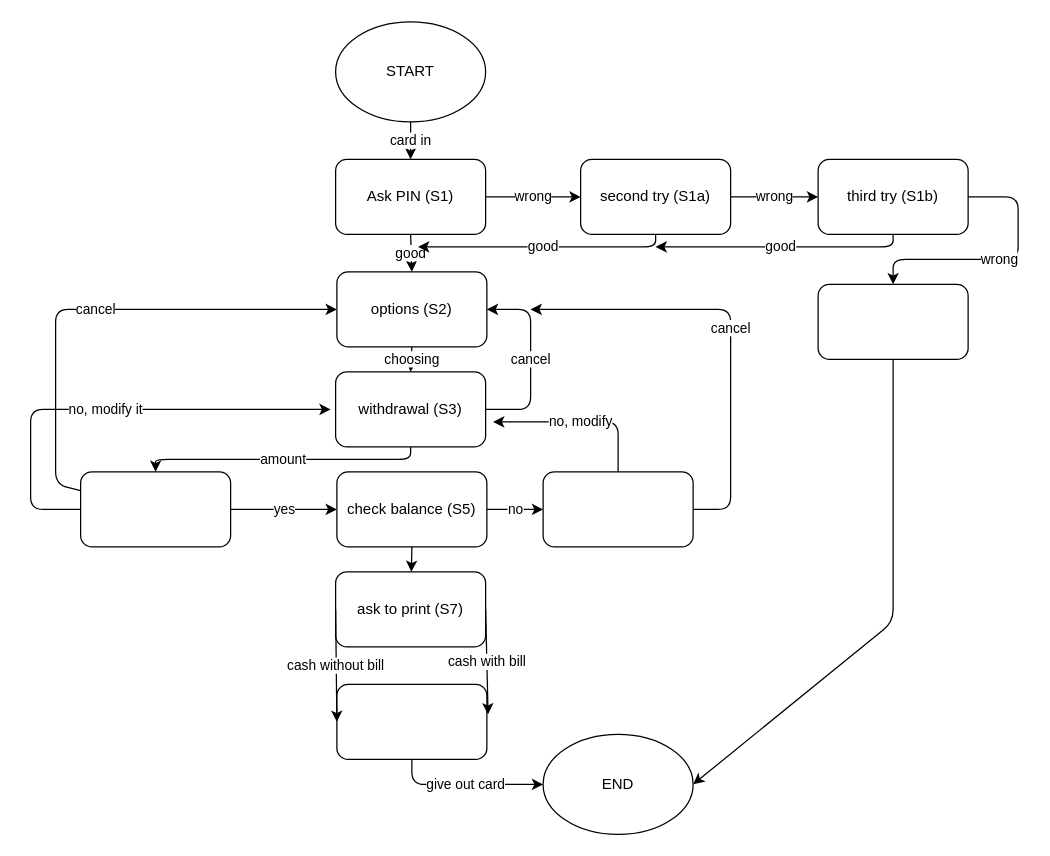
The diagram is 1050 pixels wide and 856 high, and some of its shapes have lost their labels. Each missing label, with the centre of its shape:
confirmation (S4): point 155,509
invalidation (S1c): point 892,321
not enough (S6): point 617,509
receive cash (S8): point 411,721
